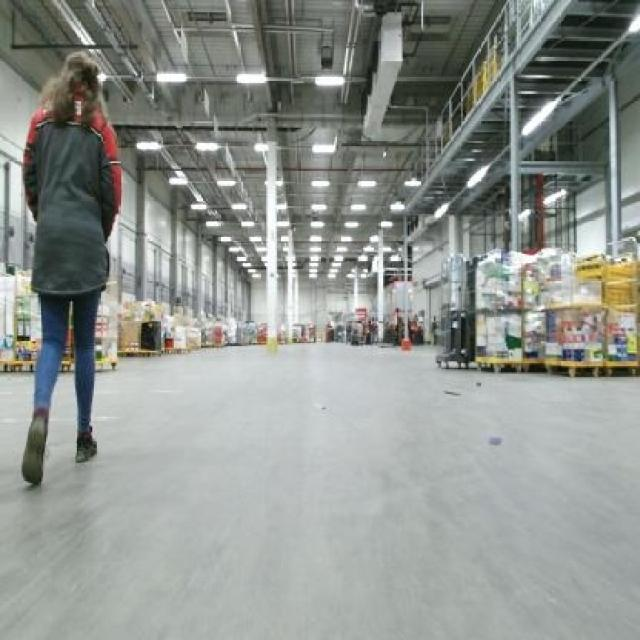floor: (0, 342, 637, 637)
pallets: (474, 240, 637, 372)
